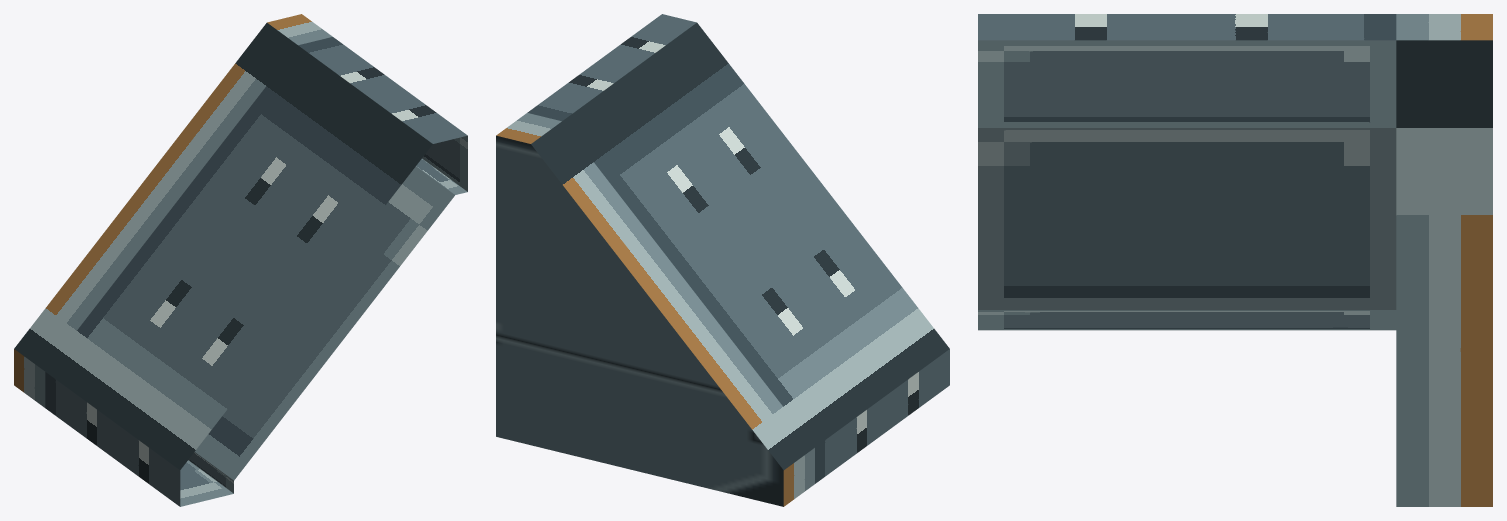
Rendered from casing_d3_front_x-1_y1.obj.
The picture shows the model from 3 angles, left to right: view 1: azimuth 30°, elevation 25°; view 2: azimuth 150°, elevation 25°; view 3: azimuth 270°, elevation 25°; orthographic projection. The views are drawn at different scales.
Visible parts, largest first — view 1: d3_front_x-1_y1; view 2: d3_front_x-1_y1; view 3: d3_front_x-1_y1.
Part boxes in pixels (box(x1,y1,x2,y2)): d3_front_x-1_y1: box(14, 14, 467, 506); d3_front_x-1_y1: box(496, 14, 949, 506); d3_front_x-1_y1: box(978, 14, 1492, 506).
Size of the model in its own units: 1 by 1 by 1.
